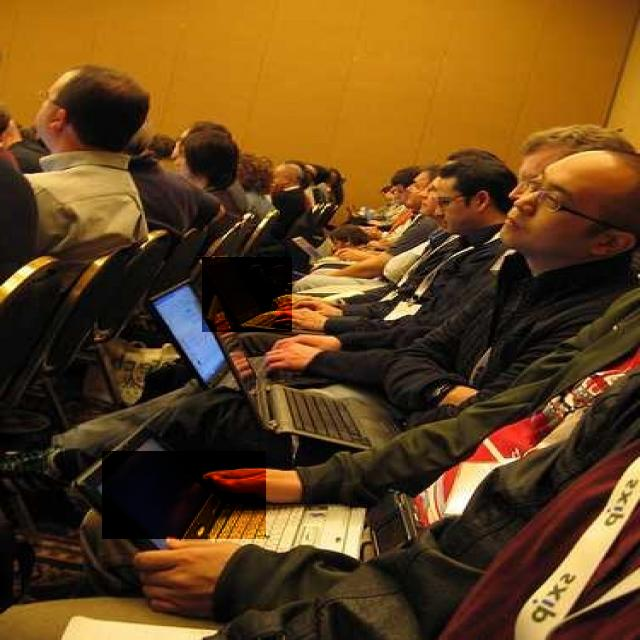-keyboard-: (150, 300, 322, 441), (102, 452, 266, 540), (202, 257, 292, 332)
